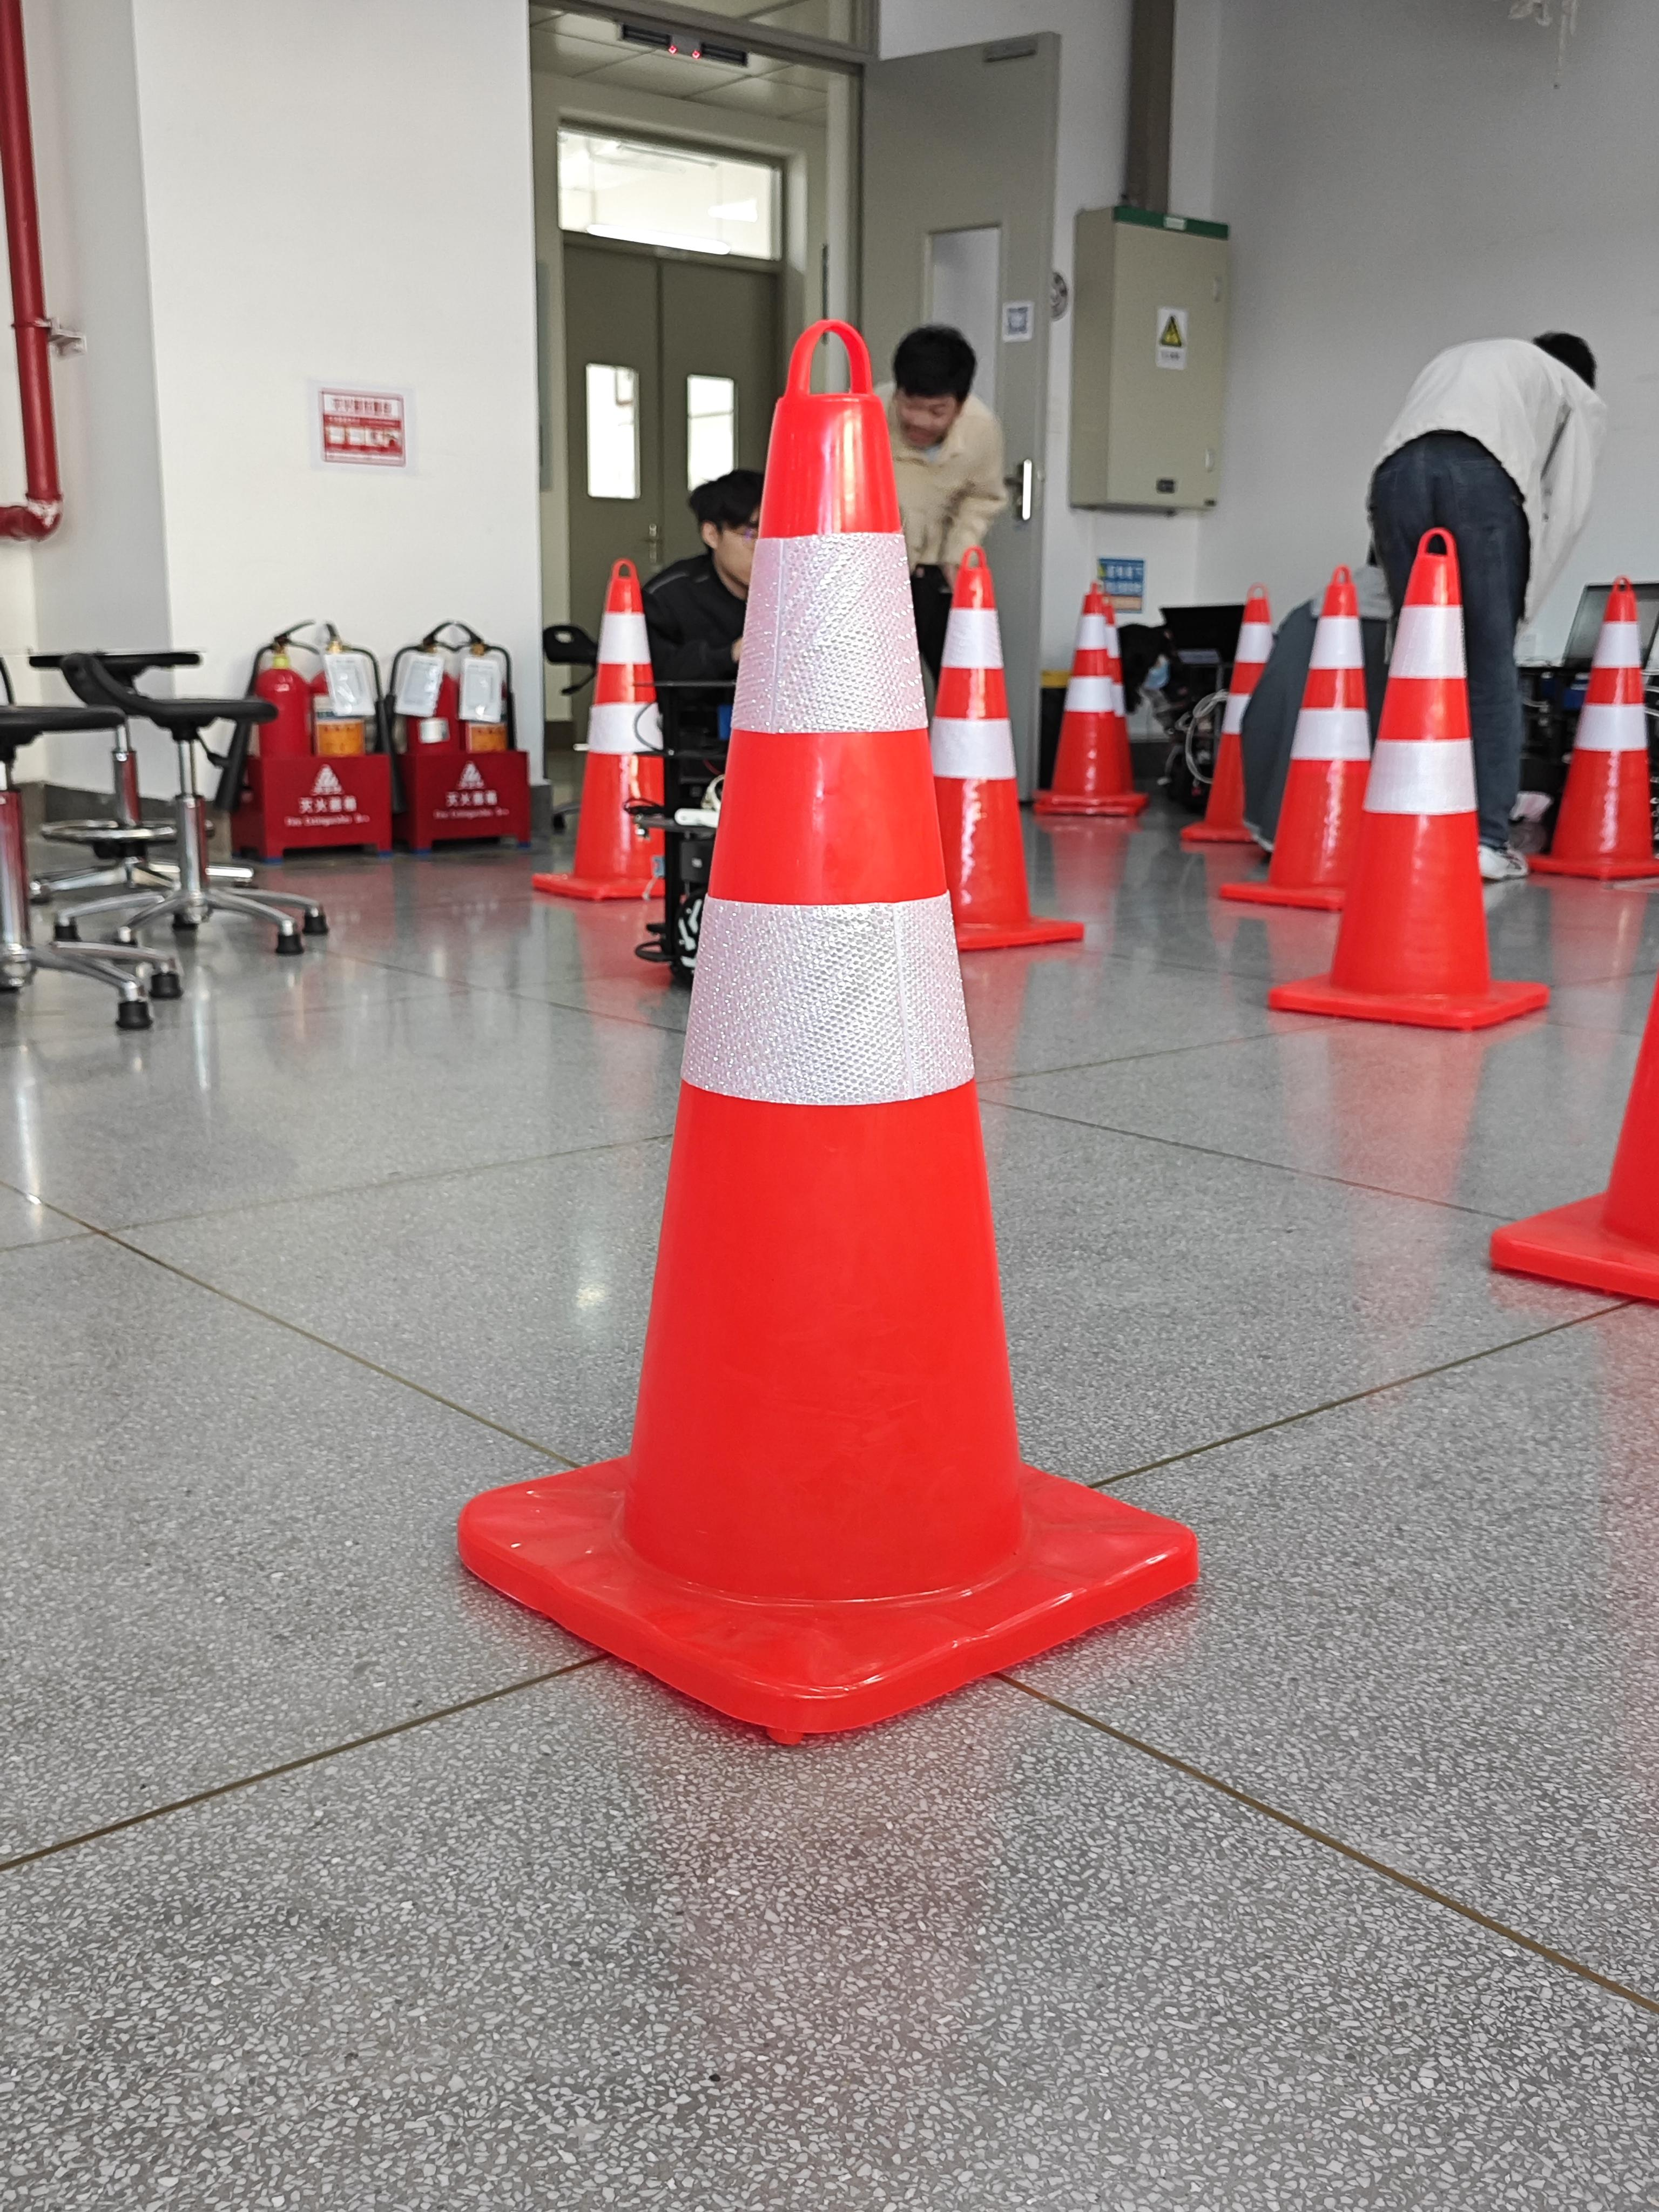cone: (458, 322, 1195, 1740), (1267, 529, 1547, 1029), (931, 547, 1084, 951), (1490, 993, 1659, 1301), (1222, 566, 1370, 909), (533, 559, 664, 900), (1530, 577, 1659, 881), (1033, 580, 1148, 815), (1182, 585, 1272, 845)
